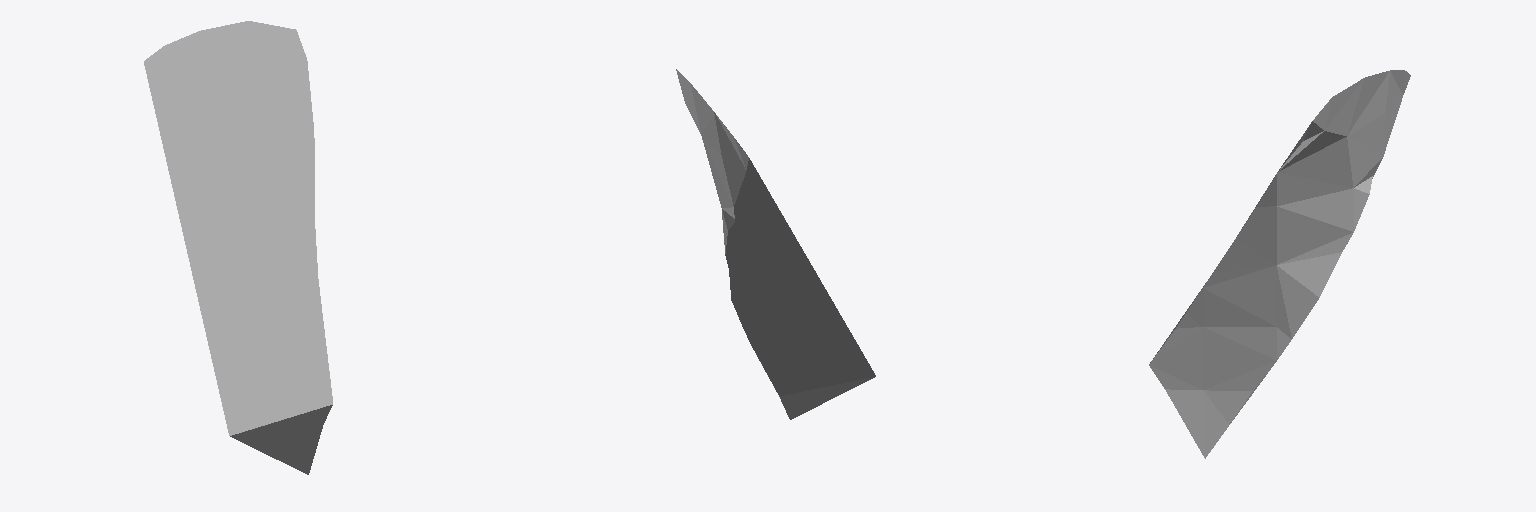
Rendered from low_cell_102.obj.
3 renders of one model, left to right at view 1: azimuth 30°, elevation 25°; view 2: azimuth 150°, elevation 25°; view 3: azimuth 270°, elevation 25°, orthographic.
Parts seen in each view (by area): view 1: low_cell.102_low_cell.103; view 2: low_cell.102_low_cell.103; view 3: low_cell.102_low_cell.103.
Part boxes in pixels (x1,y1,x2,y2): low_cell.102_low_cell.103: (144, 21, 332, 474); low_cell.102_low_cell.103: (676, 69, 875, 419); low_cell.102_low_cell.103: (1149, 70, 1410, 458).
Bounding box in the file's own units: 0.0425 × 0.1176 × 0.0715.